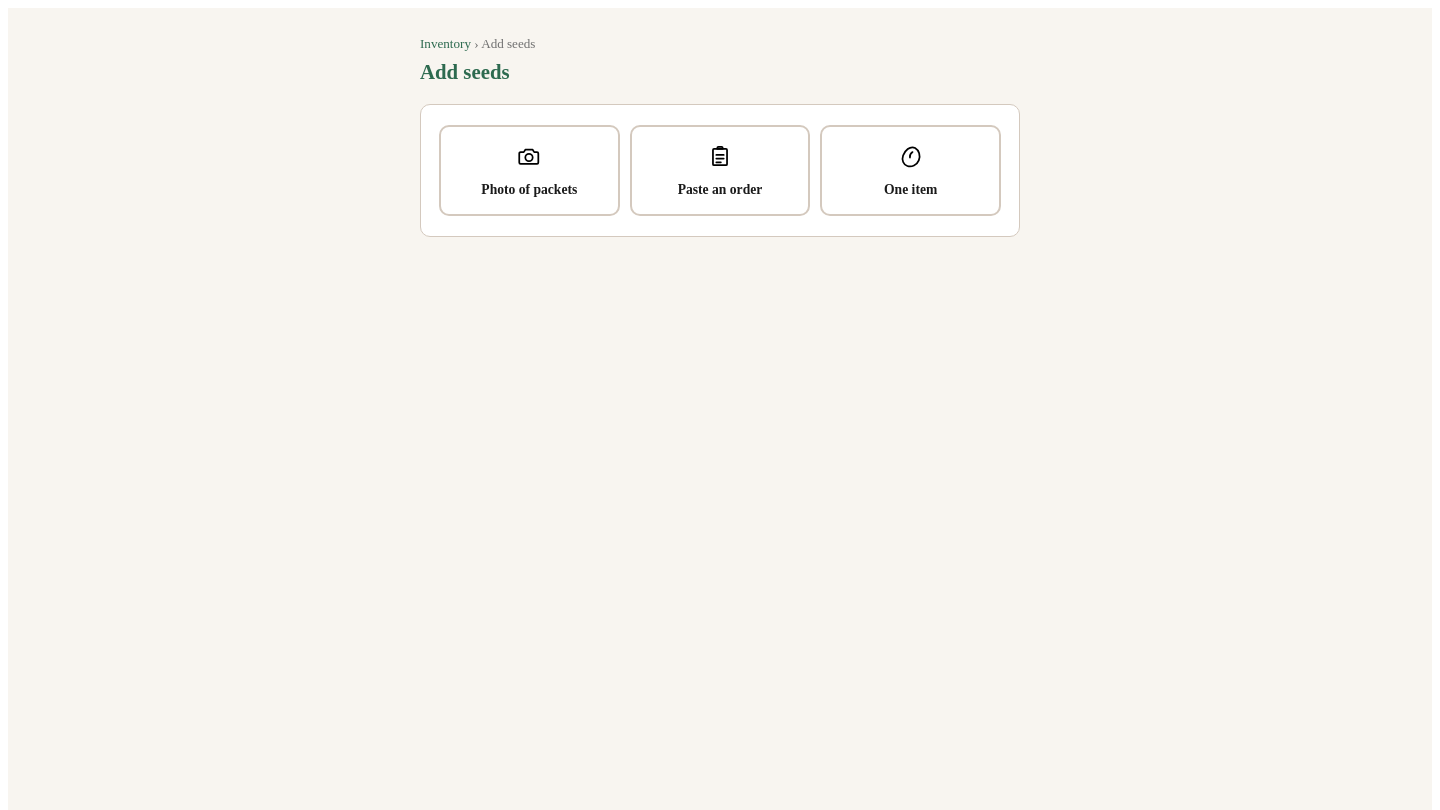
Test: AddSeeds — paste extract wire › 501 shows the extractor-not-configured banner
Click the radio button labelled "Paste an order" at coordinates (720, 170), box top-left (630, 125), bottom-right (810, 216)
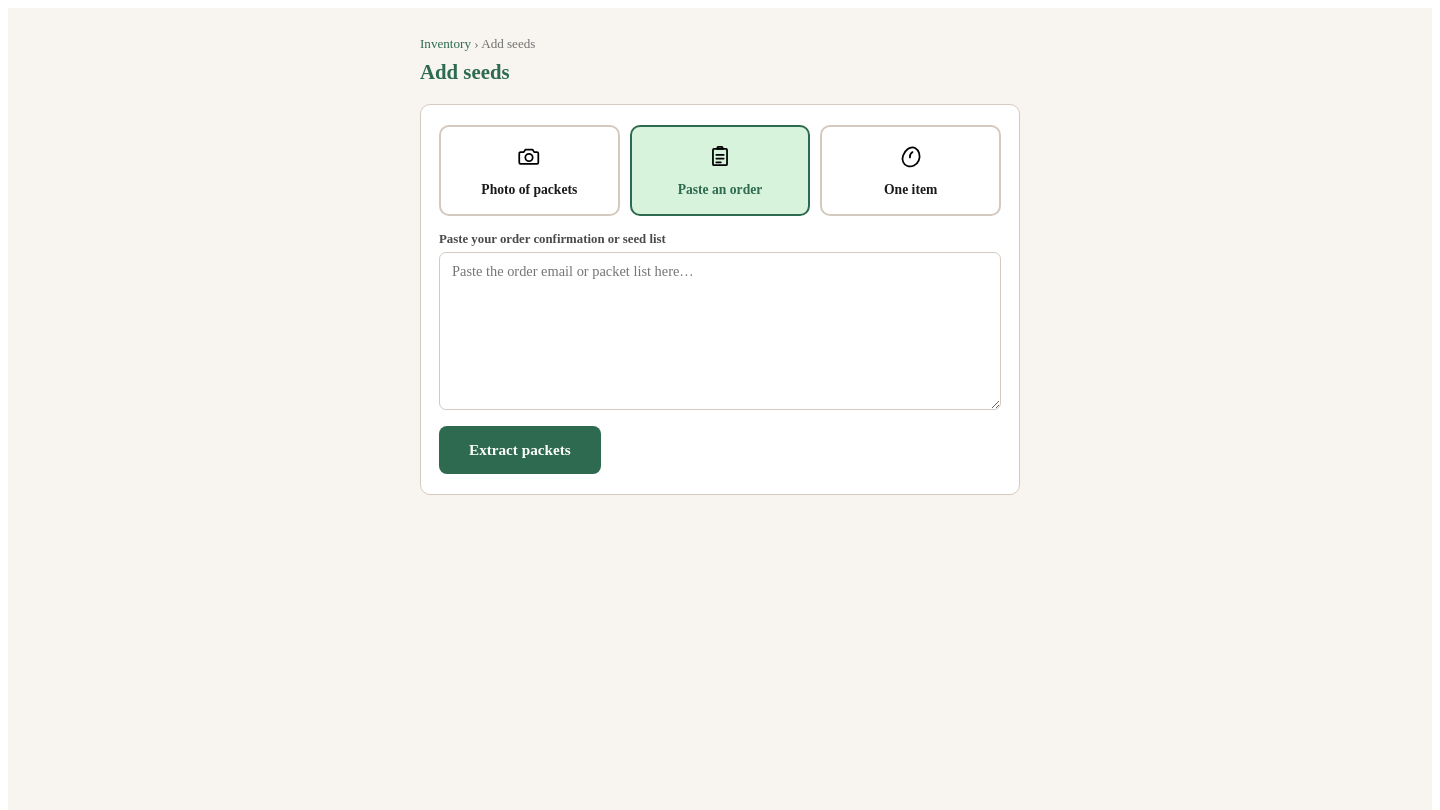
Type "Order #123: Shirley Single Blend Corn Poppy Seeds x1 $1.35" into the text box at coordinates (720, 331), box top-left (439, 252), bottom-right (1001, 410)
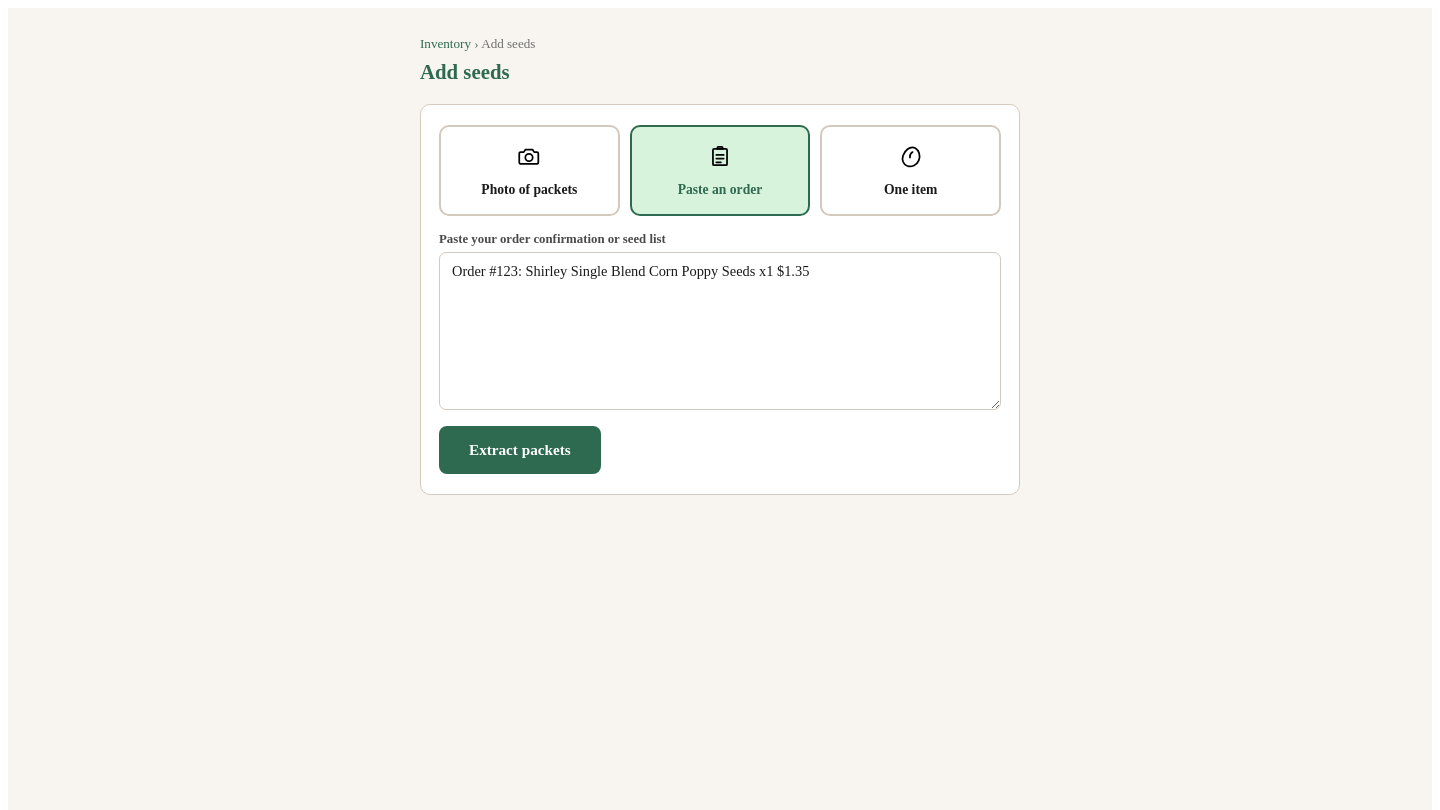
Click the button "Extract packets" at coordinates (520, 450), box top-left (439, 426), bottom-right (601, 474)
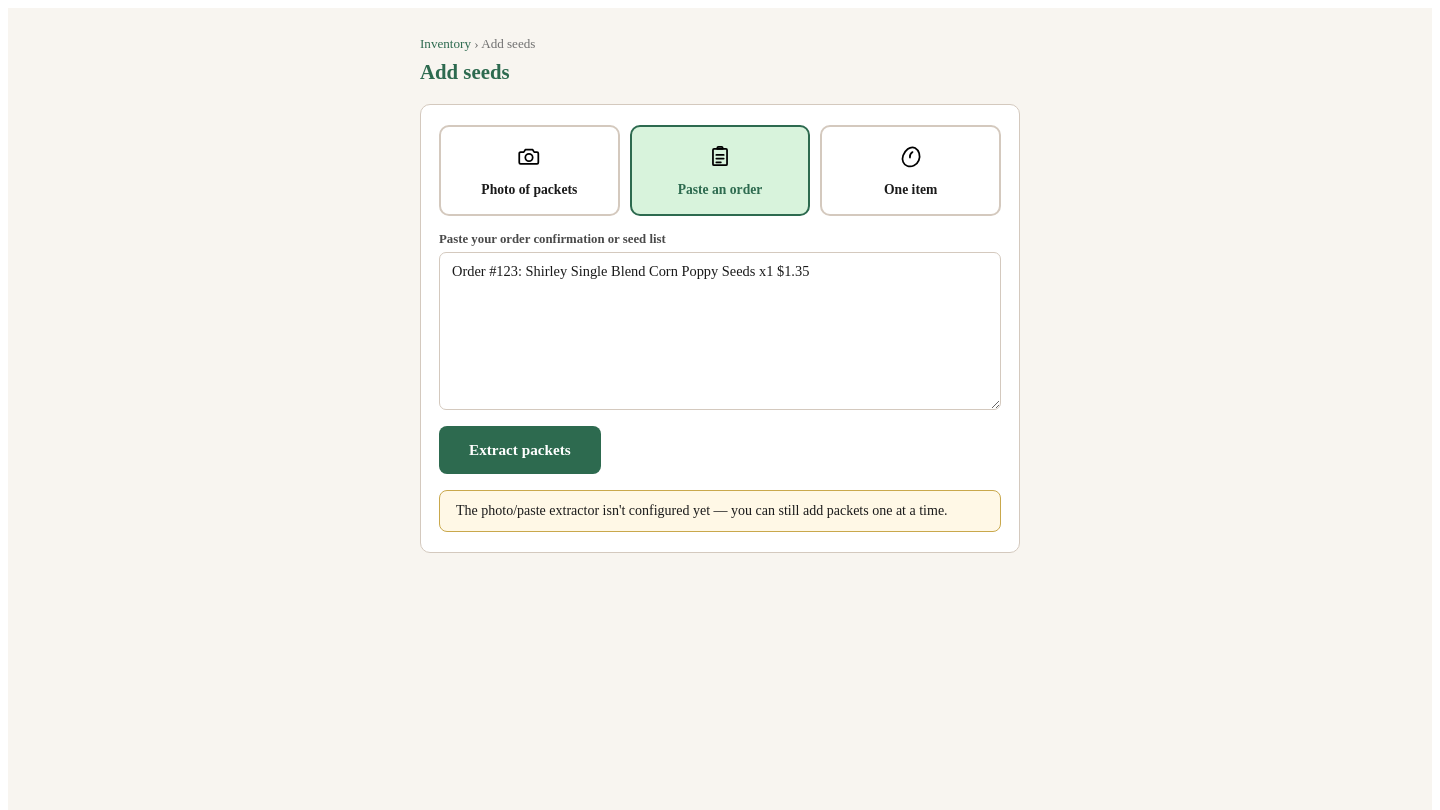
Expected: the text "The photo/paste extractor isn't configured yet — you can still add packets one at a time." is shown, top-left (456, 503), bottom-right (948, 518)
